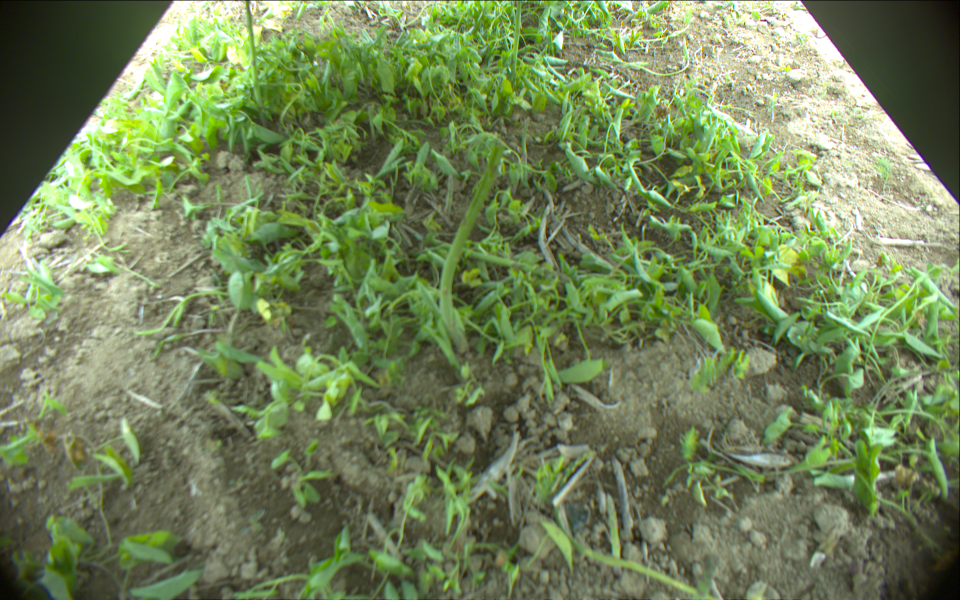aspa: (436, 145, 502, 359), (243, 1, 262, 106), (608, 495, 623, 574), (513, 1, 522, 68)
